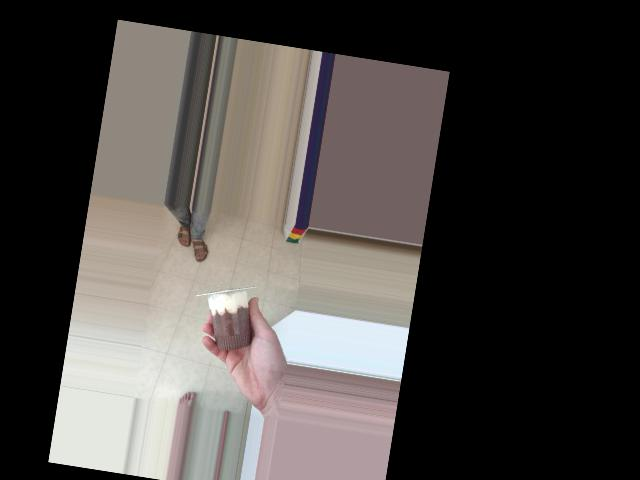milky: (192, 277, 263, 360)
